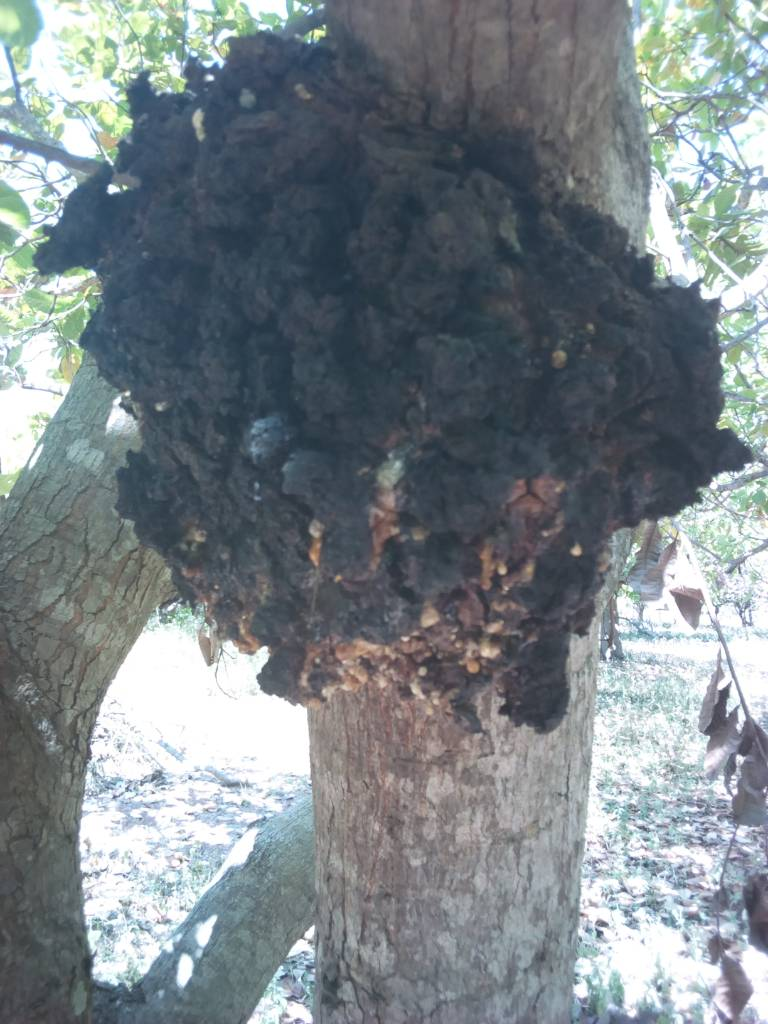Termites: (61, 72, 725, 703)
